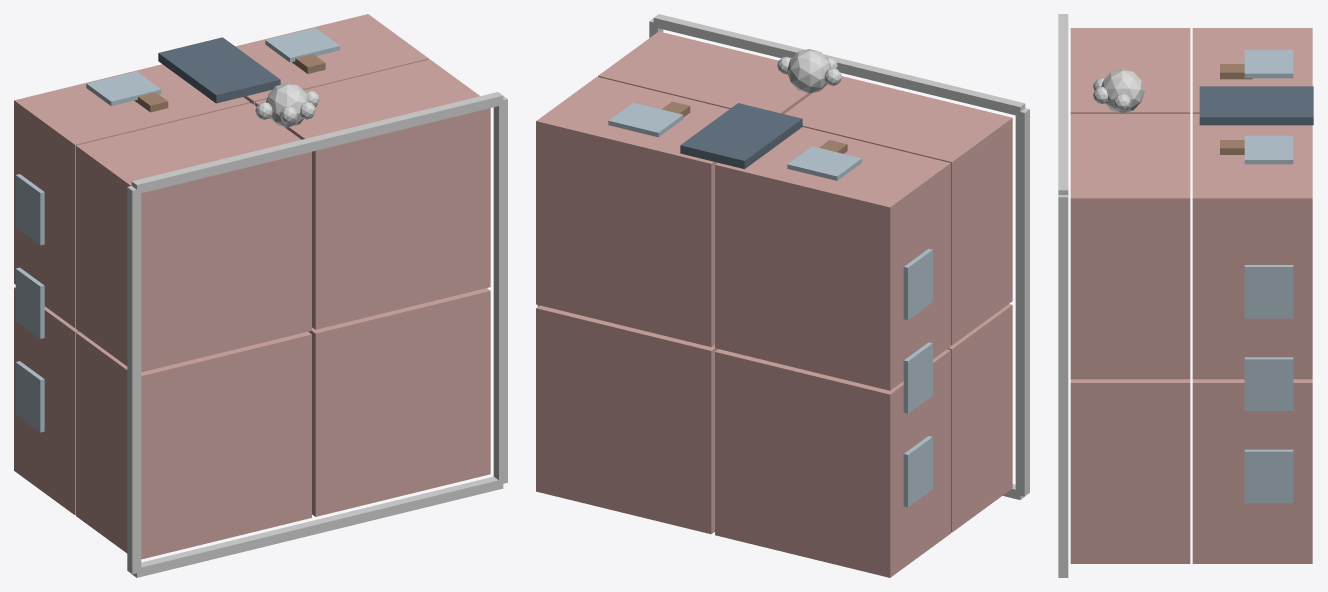
File: building-pet-shop.glb
3 views of the same model, side by side, from view 1: azimuth 30°, elevation 25°; view 2: azimuth 150°, elevation 25°; view 3: azimuth 270°, elevation 25° (orthographic).
Parts seen in each view (by area): view 1: world; view 2: world; view 3: world.
Boxes of the visible parts, x1=… form: world: x1=14, y1=14, x2=507, y2=577; world: x1=536, y1=14, x2=1029, y2=577; world: x1=1058, y1=14, x2=1313, y2=577.
Size of the model in its own units: 10.5 by 11.35 by 6.28.
